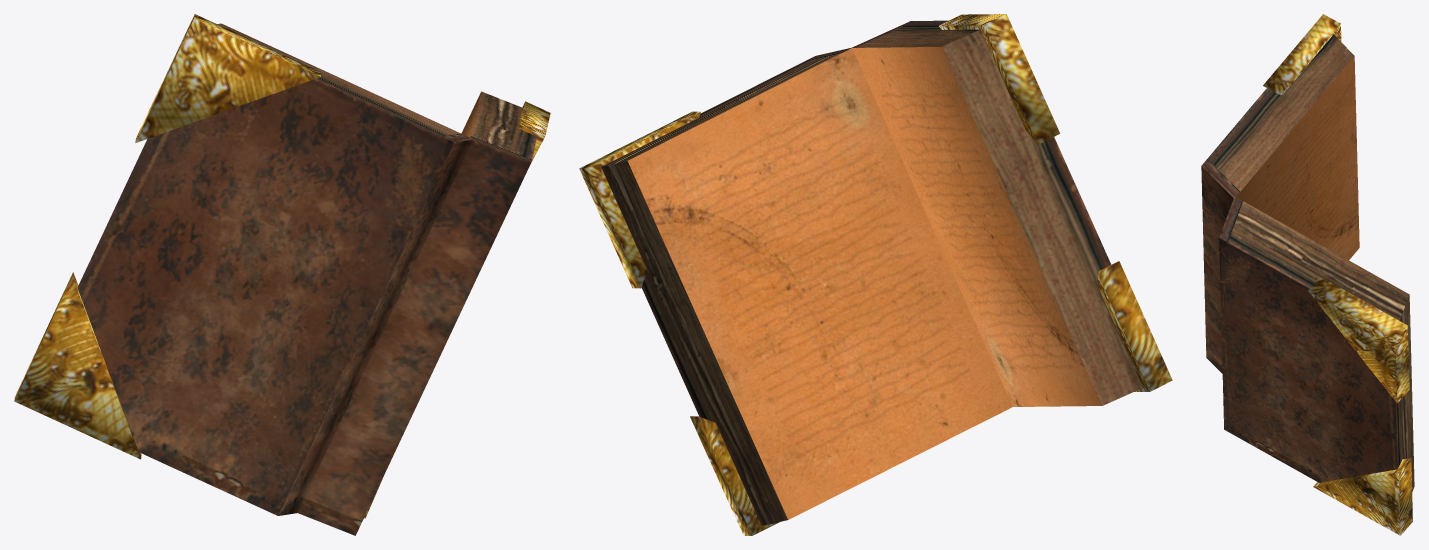
Rendered from book02.FBX.
3 renders of one model, left to right at view 1: azimuth 30°, elevation 25°; view 2: azimuth 150°, elevation 25°; view 3: azimuth 270°, elevation 25°, orthographic. The views are drawn at different scales.
Visible parts, largest first — view 1: book02; view 2: book02; view 3: book02.
Boxes of the visible parts, x1=… form: book02: x1=14, y1=14, x2=550, y2=535; book02: x1=579, y1=14, x2=1172, y2=535; book02: x1=1201, y1=14, x2=1414, y2=535.
Bounding box in the file's own units: 0.8332 × 0.7791 × 0.3446.
